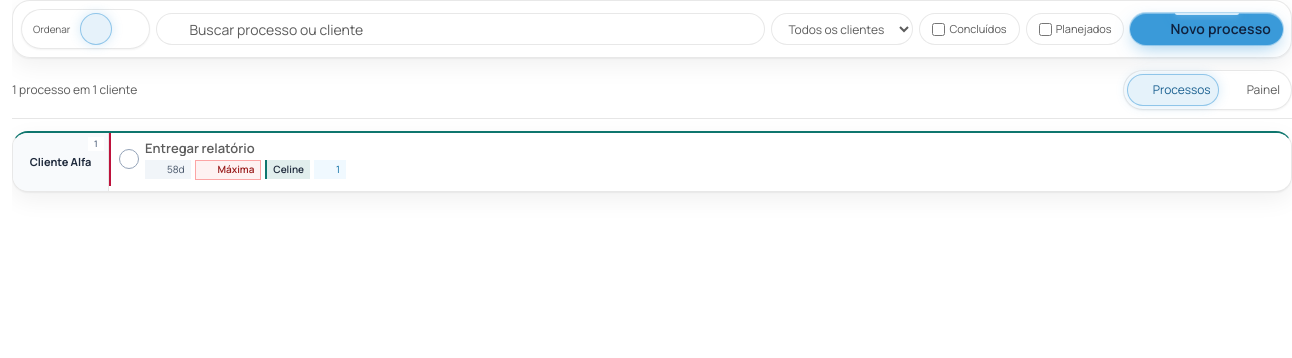
Test case: ProcessesTab › shows the follow-up comments inside the process and comments on it
Later steps or results of the test are not shown.
expect the element named "1 comentário de acompanhamento" is shown: met, box [314,160,346,179]
What coordinates should you click on to do the following:
click the button with aria-label "Expandir processo Entregar relatório"
I would click on:
 (200, 148)
Its box is [145,139,1189,158].
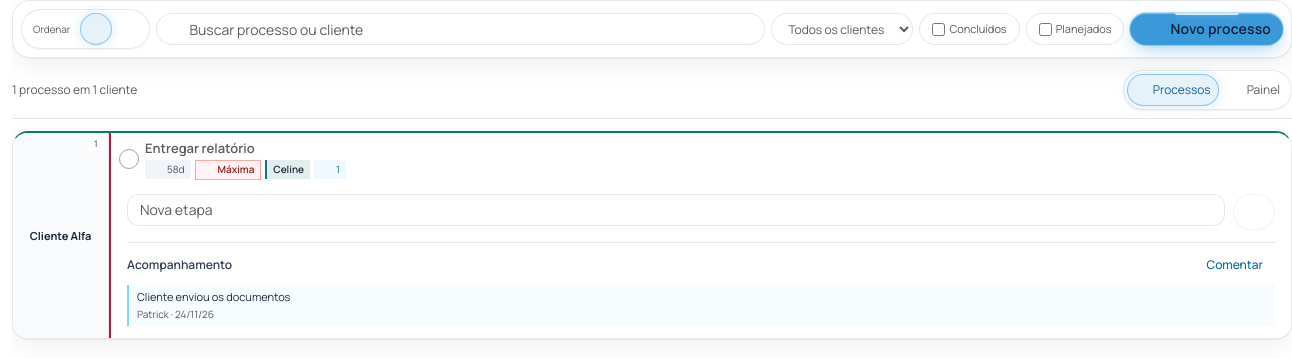
expect the text "Cliente enviou os documentos" is shown: met, box [137,289,290,304]
